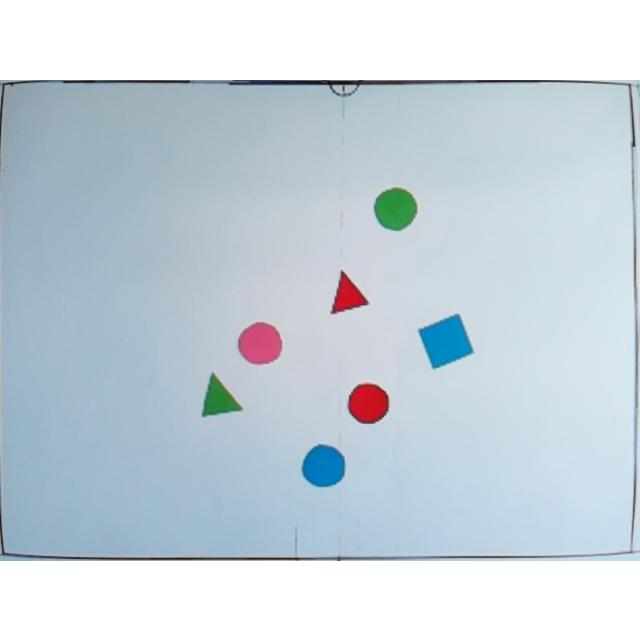blueCircle: (301, 442, 345, 486)
blueSquare: (417, 312, 475, 370)
greenCircle: (373, 186, 417, 230)
greenTriangle: (201, 369, 245, 416)
pinkCircle: (238, 321, 282, 364)
redCircle: (346, 380, 389, 424)
redTriangle: (331, 268, 369, 316)
